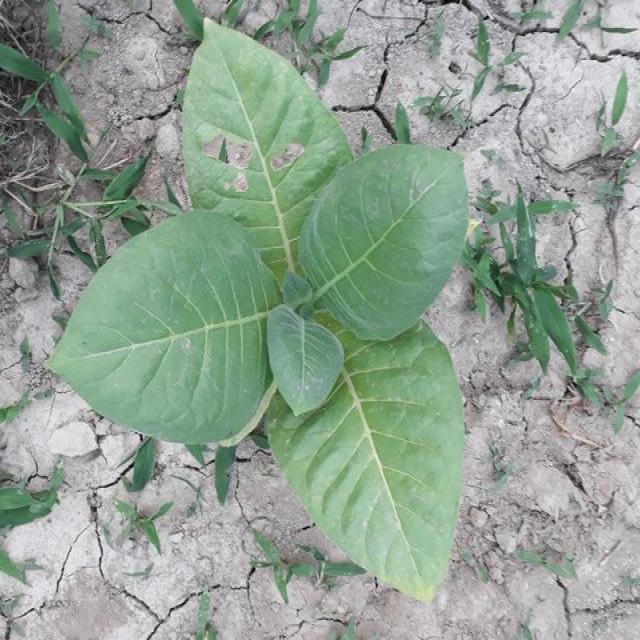crop: (46, 23, 472, 599)
